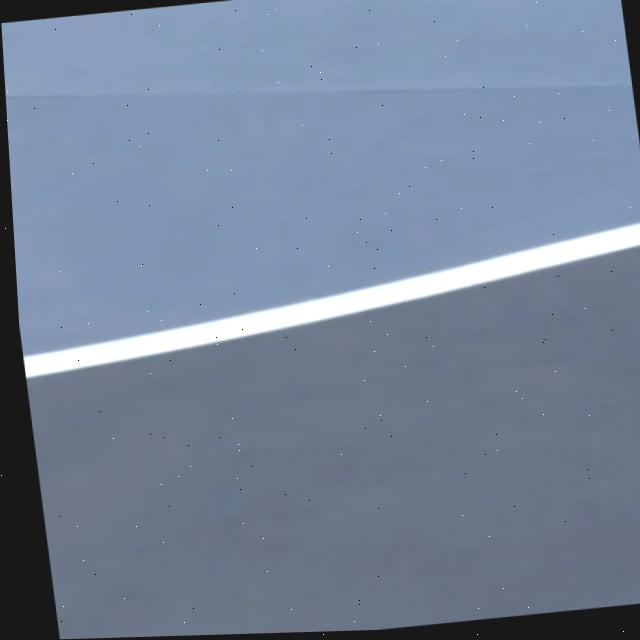left: (23, 220, 640, 376)
